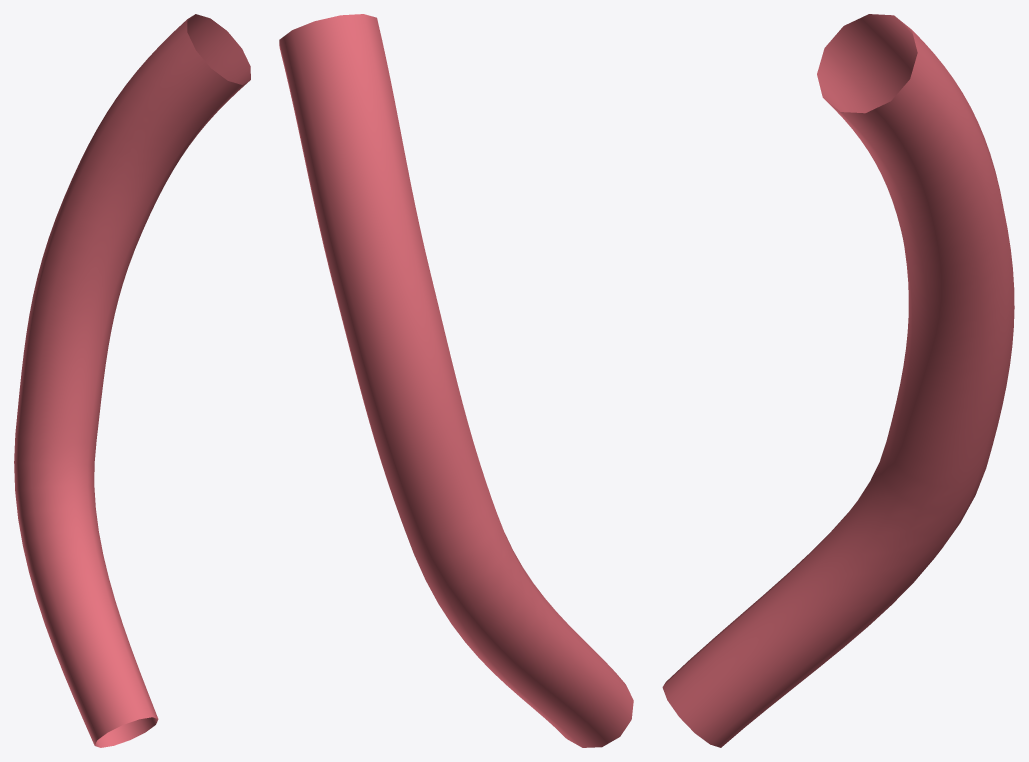
3 renders of one model, left to right at view 1: azimuth 30°, elevation 25°; view 2: azimuth 150°, elevation 25°; view 3: azimuth 270°, elevation 25°, orthographic. The views are drawn at different scales.
Parts seen in each view (by area): view 1: ZA_4cc39f4e9774fd59; view 2: ZA_4cc39f4e9774fd59; view 3: ZA_4cc39f4e9774fd59.
Part boxes in pixels (x1,y1,x2,y2): ZA_4cc39f4e9774fd59: (14, 14, 250, 747); ZA_4cc39f4e9774fd59: (279, 14, 633, 747); ZA_4cc39f4e9774fd59: (662, 14, 1014, 747).
Bounding box in the file's own units: 0.0349 × 0.0955 × 0.0374.
